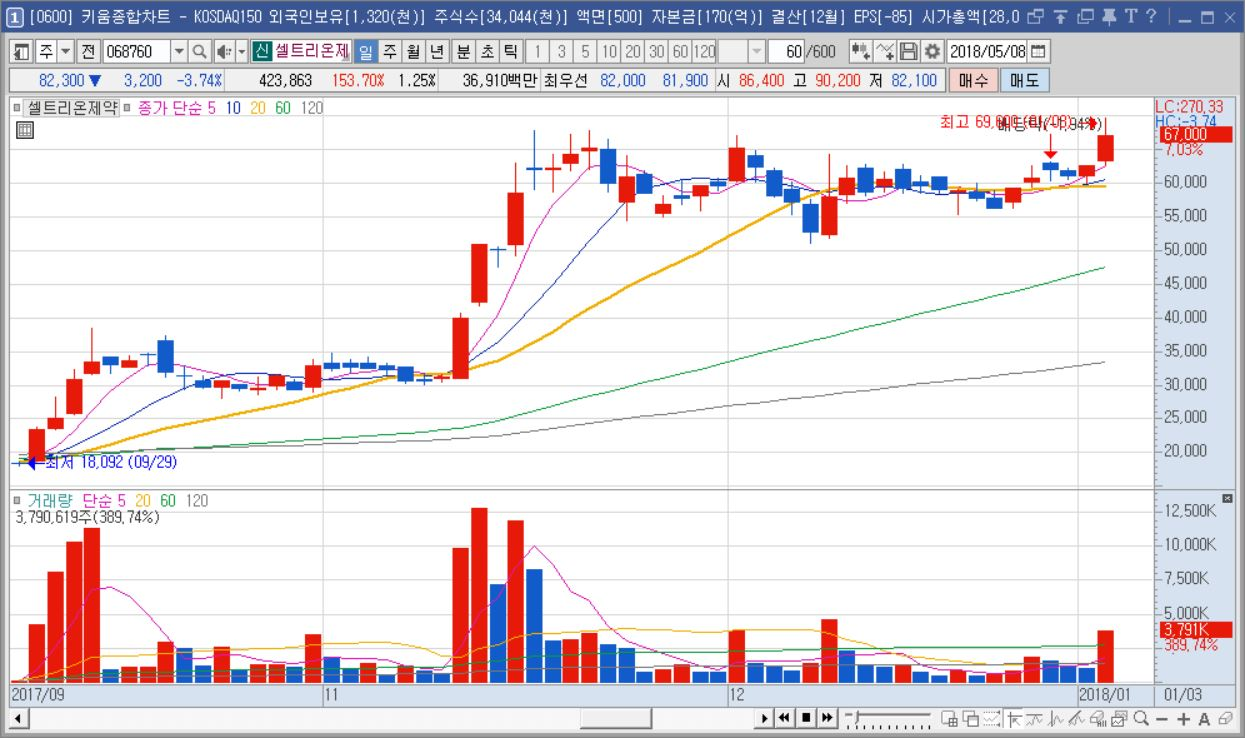up: (449, 106, 1115, 683)
